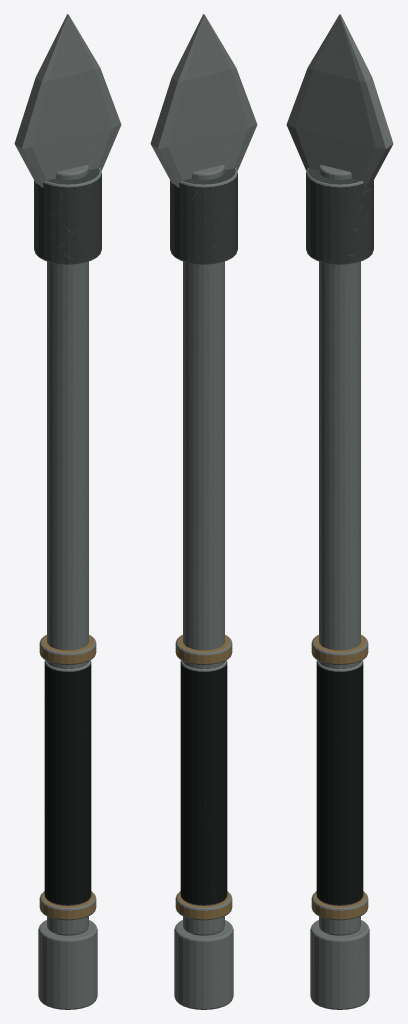
The model's file is long_spear-t2.glb.
The picture shows the model from 3 angles, left to right: view 1: azimuth 30°, elevation 25°; view 2: azimuth 210°, elevation 25°; view 3: azimuth 330°, elevation 25°; orthographic projection.
Visible parts, largest first — view 1: Steel shaft, Continuous two-hand wrap, Forged spear point, Spear socket housing, Spear rear counterweight, Grip ferrule.001, Grip ferrule; view 2: Steel shaft, Continuous two-hand wrap, Forged spear point, Spear socket housing, Spear rear counterweight, Grip ferrule.001, Grip ferrule; view 3: Steel shaft, Continuous two-hand wrap, Forged spear point, Spear socket housing, Spear rear counterweight, Grip ferrule.001, Grip ferrule.
Boxes of the visible parts, x1,y1,x2,y2 form: Steel shaft: (47,165,88,935); Continuous two-hand wrap: (44,660,91,905); Forged spear point: (14,14,121,187); Spear socket housing: (34,168,101,264); Spear rear counterweight: (38,920,97,1009); Grip ferrule.001: (39,634,96,664); Grip ferrule: (39,891,96,920); Steel shaft: (183,165,224,935); Continuous two-hand wrap: (180,660,227,905); Forged spear point: (150,14,257,187); Spear socket housing: (170,168,237,264); Spear rear counterweight: (174,920,233,1009); Grip ferrule.001: (175,634,232,664); Grip ferrule: (175,891,232,920); Steel shaft: (319,165,360,935); Continuous two-hand wrap: (316,660,363,905); Forged spear point: (286,14,393,187); Spear socket housing: (306,168,373,264); Spear rear counterweight: (310,920,369,1009); Grip ferrule.001: (311,634,368,664); Grip ferrule: (311,891,368,920).
Size of the model in its own units: 0.3397 by 3.2 by 0.2.
4 materials, 4 textured.
